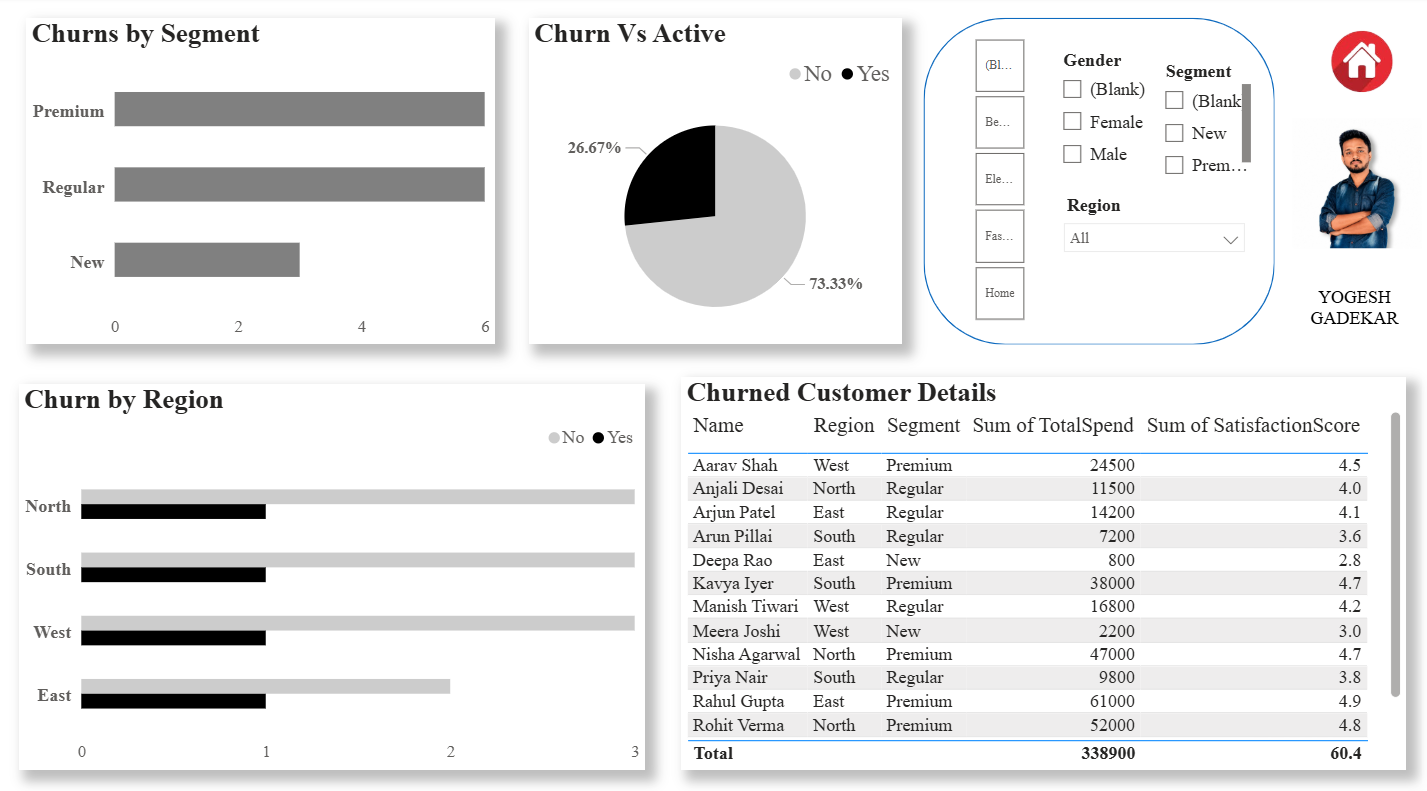

This screenshot's page, from the dashboard's own definition file:
{"tool":"powerbi","page":{"name":"Page 3","canvas":[1280,720],"ordinal":2},"visuals":[{"type":"barChart","title":"Churns by Segment","fields":{"Category":["CustomerData.Segment"],"Y":["CustomerData.Total Customers"]},"box":[26.2,21.5,416.9,290.8],"z":0},{"type":"shape","box":[824.6,21.5,312.3,290.8],"z":0,"group":"g1"},{"type":"pieChart","title":"Churn Vs Active","fields":{"Y":["CustomerData.Total Customers"],"Category":["CustomerData.ChurnStatus"]},"box":[473.8,21.5,332.3,290.8],"z":1000},{"type":"clusteredBarChart","title":"Churn by Region","fields":{"Category":["CustomerData.Region"],"Y":["CustomerData.Total Customers"],"Series":["CustomerData.ChurnStatus"]},"box":[20,346.2,556.9,343.1],"z":2000},{"type":"tableEx","title":"Churned Customer Details","fields":{"Values":["CustomerData.Name","CustomerData.Region","CustomerData.Segment","Sum(CustomerData.TotalSpend)","Sum(CustomerData.SatisfactionScore)"]},"box":[609.2,340,644.6,349.2],"z":3000},{"type":"group","id":"g1","title":"Group 1","box":[824.6,21.5,312.3,290.8],"z":4000},{"type":"image","box":[1163.3,10,101.7,100],"z":5000},{"type":"slicer","fields":{"Values":["CustomerData.Region"]},"box":[939,173.6,181.2,106.2],"z":5000,"group":"g1"},{"type":"slicer","fields":{"Values":["CustomerData.Segment"]},"box":[1026.3,54.3,93.9,121.2],"z":6000,"group":"g1"},{"type":"image","box":[1151.7,110,115,116.7],"z":6000},{"type":"slicer","fields":{"Values":["CustomerData.Gender"]},"box":[936.2,45,91.1,130.5],"z":7000,"group":"g1"},{"type":"textbox","box":[1150,255,115,56.7],"z":7000},{"type":"slicer","fields":{"Values":["CustomerData.ProductCategory"]},"box":[845.1,33.8,93.9,262.8],"z":8000,"group":"g1"}]}

Visuals, with their boxes in screenshot pixels (x1, y1, x2, y2), scaled from the page's 1280x720 canvas onto the 1427x791 screenshot:
"Churns by Segment" barChart: l=29, t=24, r=494, b=343
shape: l=919, t=24, r=1267, b=343
"Churn Vs Active" pieChart: l=528, t=24, r=899, b=343
"Churn by Region" clusteredBarChart: l=22, t=380, r=643, b=757
"Churned Customer Details" tableEx: l=679, t=374, r=1398, b=757
"Group 1" group: l=919, t=24, r=1267, b=343
image: l=1297, t=11, r=1410, b=121
slicer - CustomerData.Region: l=1047, t=191, r=1249, b=307
slicer - CustomerData.Segment: l=1144, t=60, r=1249, b=193
image: l=1284, t=121, r=1412, b=249
slicer - CustomerData.Gender: l=1044, t=49, r=1145, b=193
textbox: l=1282, t=280, r=1410, b=342
slicer - CustomerData.ProductCategory: l=942, t=37, r=1047, b=326
